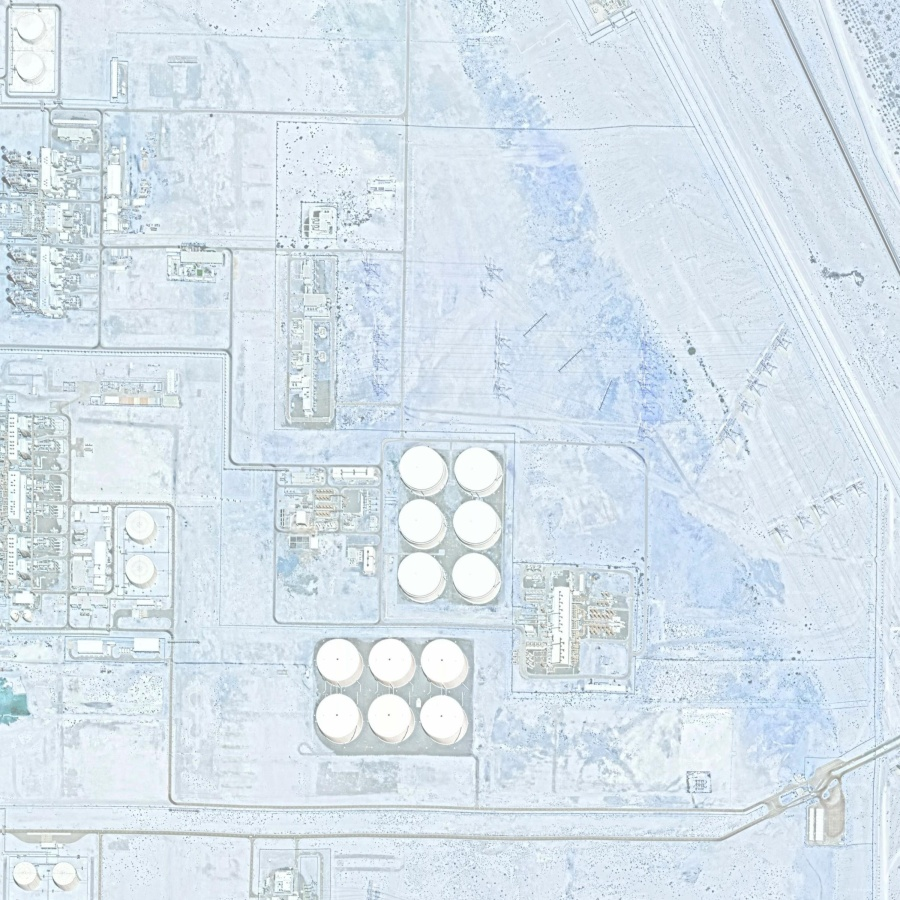PowerPlant: (253, 413, 633, 771)
